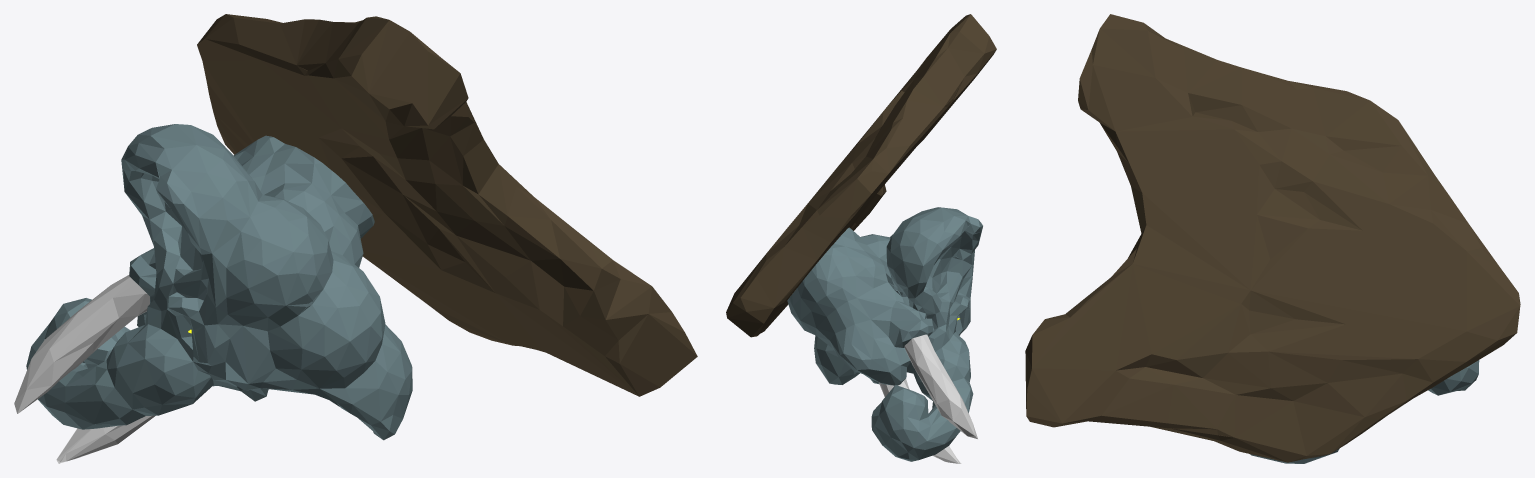
Rendered from elephant.fbx.
3 views of the same model, side by side, from view 1: azimuth 30°, elevation 25°; view 2: azimuth 150°, elevation 25°; view 3: azimuth 270°, elevation 25° (orthographic). The views are drawn at different scales.
Visible parts, largest first — view 1: Layer_3; view 2: Layer_3; view 3: Layer_3.
Part boxes in pixels (bbox=[...]): Layer_3: bbox=[14, 14, 697, 463]; Layer_3: bbox=[726, 14, 996, 463]; Layer_3: bbox=[1025, 14, 1520, 463].
Bounding box in the file's own units: 172 × 194 × 198.
